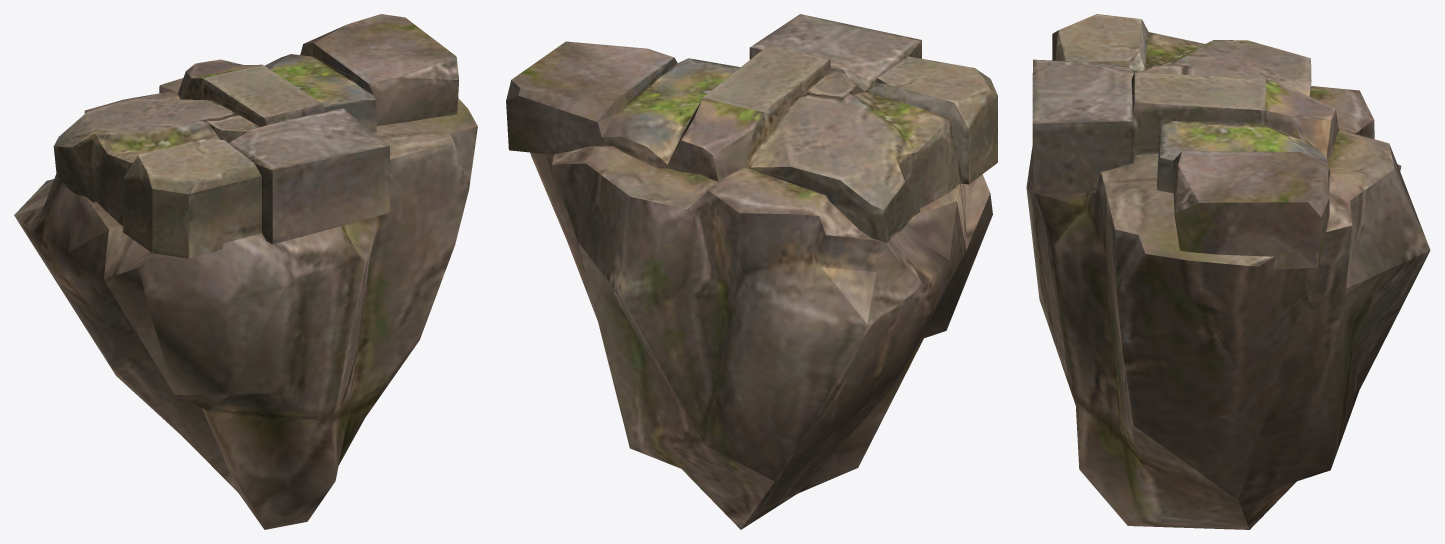
Rendered from xinshoubujian10.FBX.
3 views of the same model, side by side, from view 1: azimuth 30°, elevation 25°; view 2: azimuth 150°, elevation 25°; view 3: azimuth 270°, elevation 25° (orthographic). The views are drawn at different scales.
Visible parts, largest first — view 1: Mesh_0067; view 2: Mesh_0067; view 3: Mesh_0067.
Boxes of the visible parts, x1,y1,x2,y2 form: Mesh_0067: [14, 14, 477, 529]; Mesh_0067: [506, 14, 997, 529]; Mesh_0067: [1026, 14, 1430, 529].
Size of the model in its own units: 6.47 by 6.48 by 5.38.
